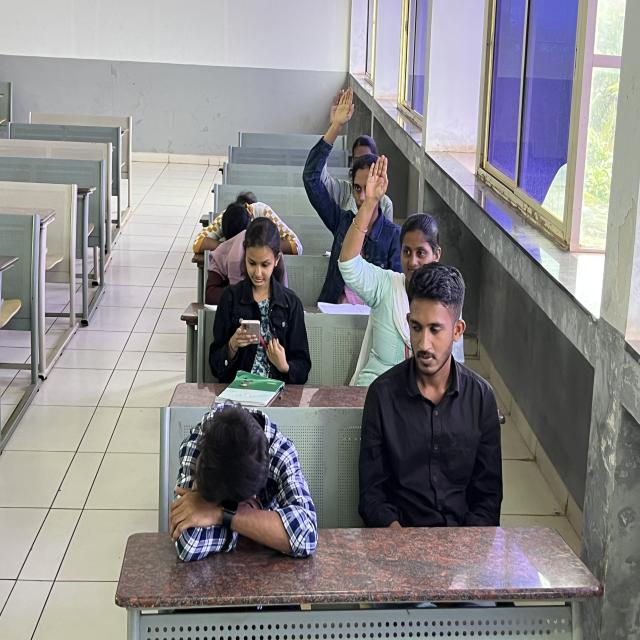Hand Rising: (344, 165, 488, 377), (300, 92, 412, 262)
Sleeping: (154, 388, 334, 583), (177, 184, 319, 283), (192, 211, 309, 301)
Using Phone: (197, 220, 345, 393)
